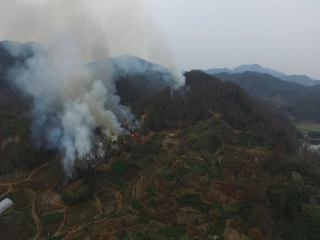smoke: (14, 14, 188, 179)
